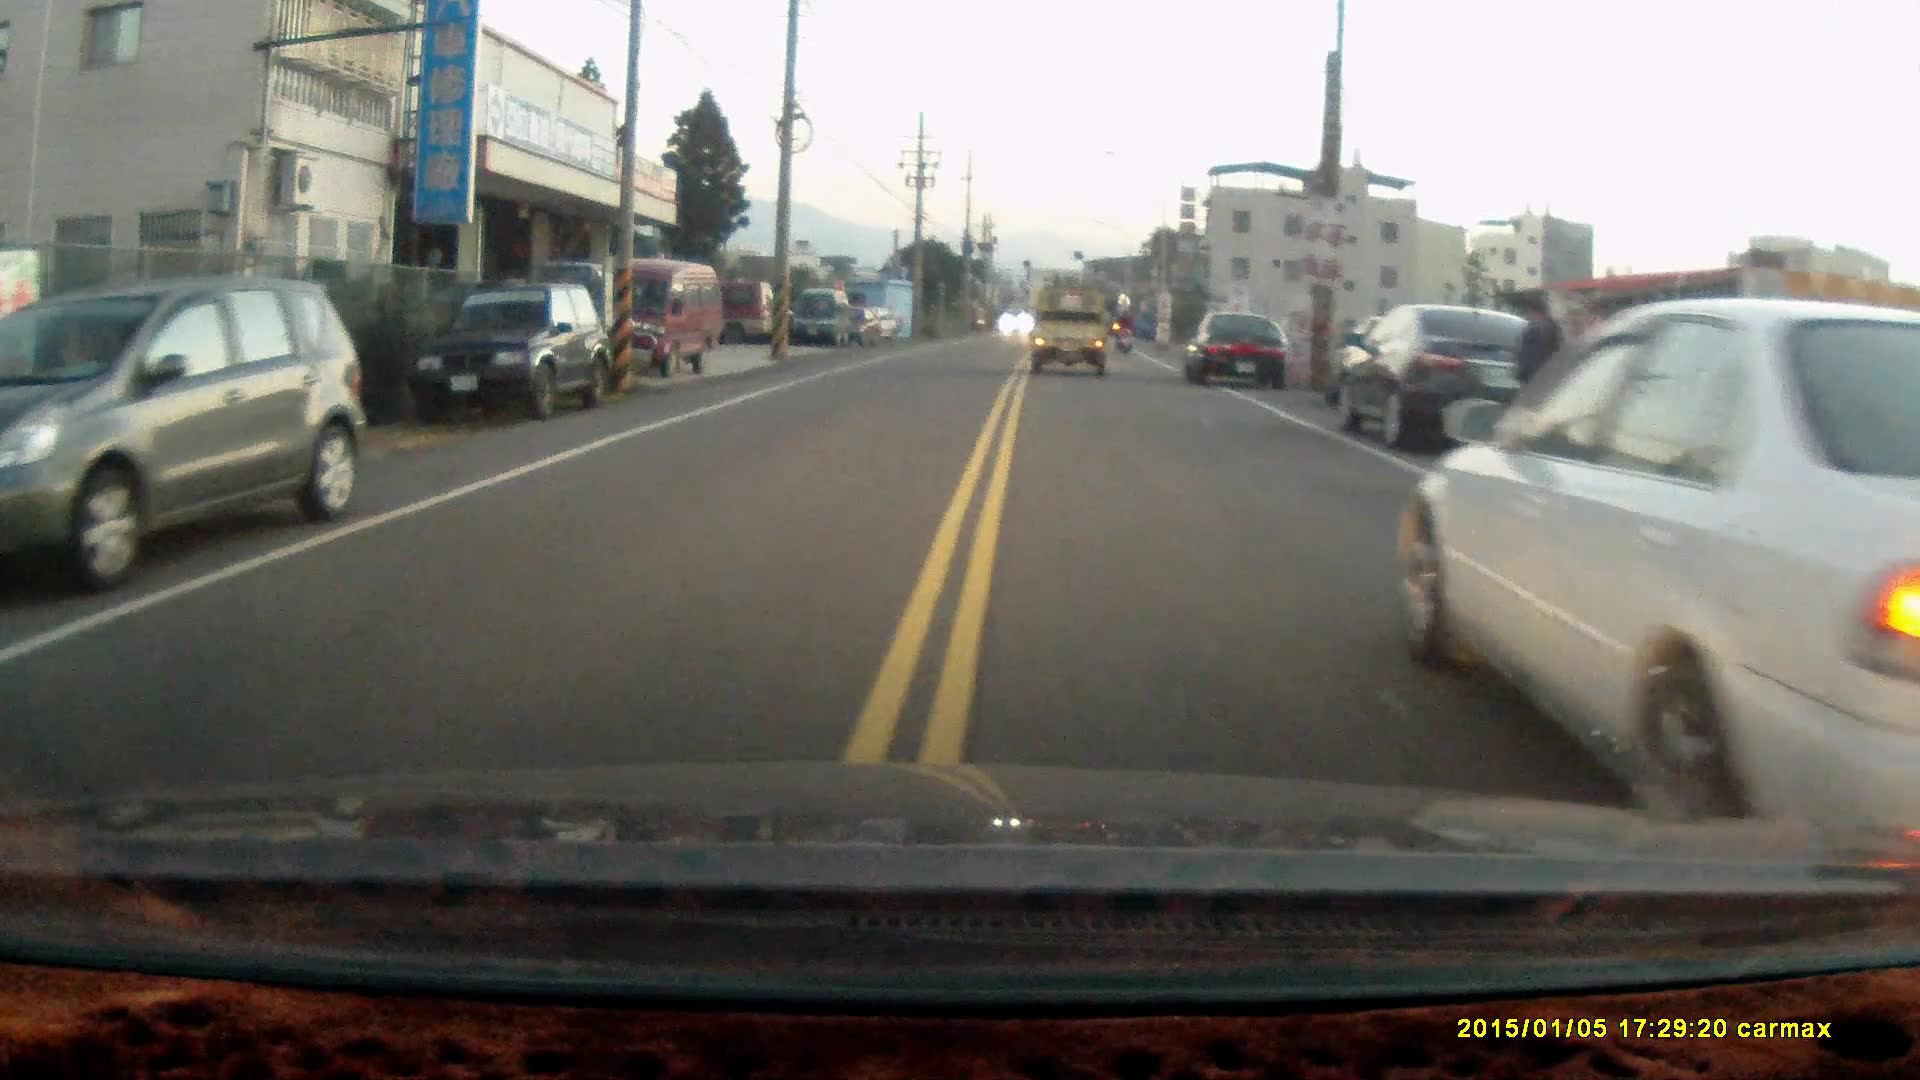pedestrian: (1505, 296, 1569, 463)
vehicle: (1404, 300, 1920, 829), (1, 281, 372, 595), (1338, 299, 1578, 456), (414, 279, 602, 422), (571, 256, 730, 380), (1186, 309, 1295, 387), (1031, 285, 1116, 369), (792, 288, 855, 345)
